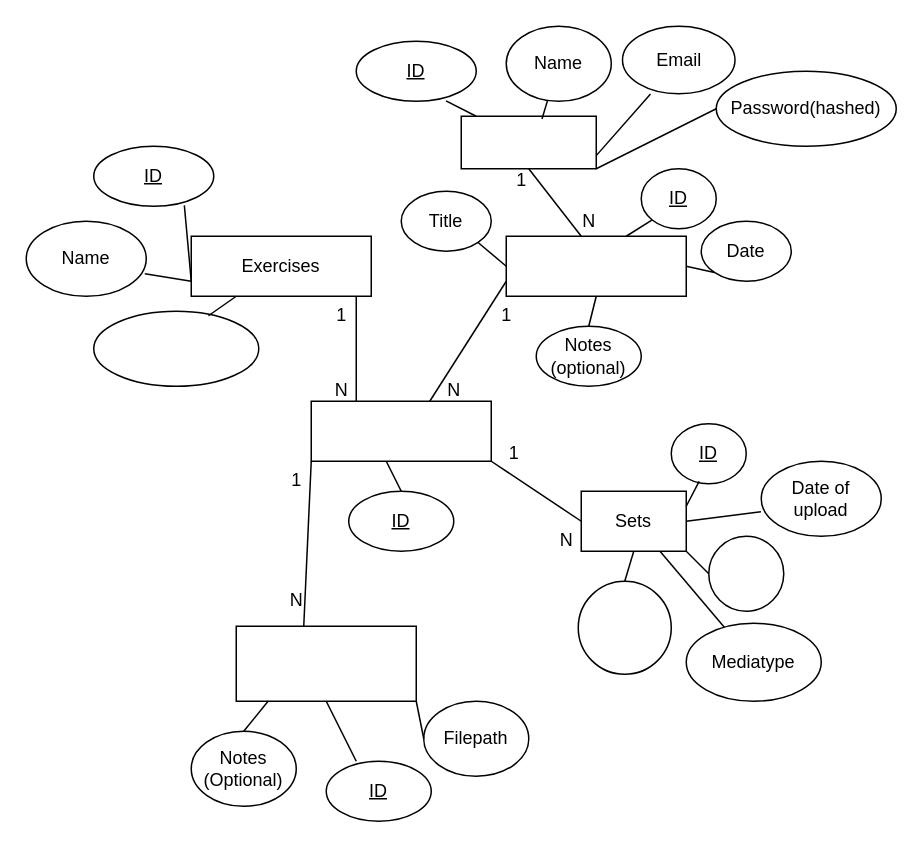
This 923x848 diagram has some shape labels left out. The centre of each missing label's shape, as x and y in pixels:
"Description (Optional)" goes at point 175,348.
"ProgressMedia" goes at point 325,663.
"Reps" goes at point 745,573.
"User" goes at point 528,142.
"Weight" goes at point 624,627.
"WorkoutExercises" goes at point 400,430.
"WorkoutSessions" goes at point 595,265.
